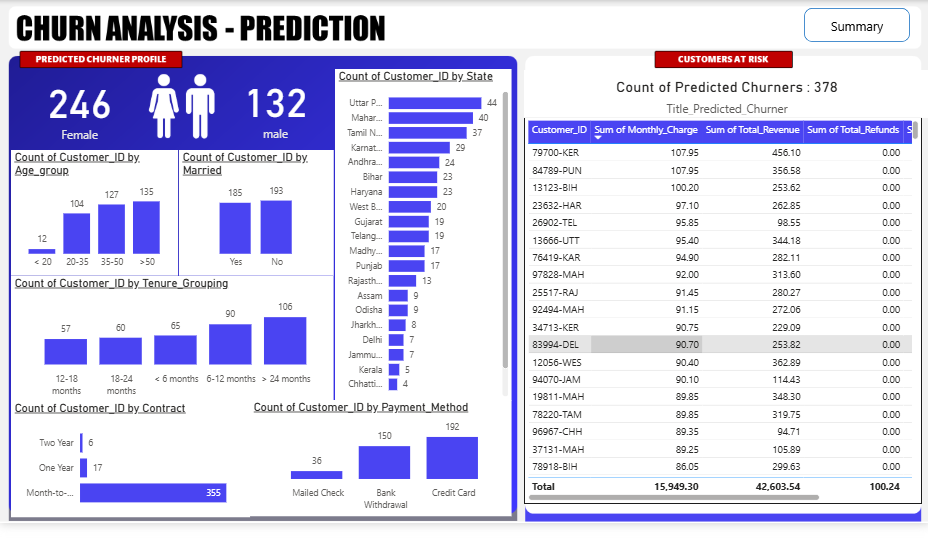

The page's visual inventory and layout, read from the dashboard file:
{"tool":"powerbi","page":{"name":"Churn_Prediction","canvas":[1280,720],"ordinal":2},"visuals":[{"type":"tableEx","fields":{"Values":["Prediction.Customer_ID","Sum(Prediction.Monthly_Charge)","Sum(Prediction.Total_Revenue)","Sum(Prediction.Total_Refunds)","Sum(Prediction.Number_of_Referrals)"]},"box":[721.2,161,547.8,532.6],"z":0},{"type":"card","fields":{"Values":["tab_measures.Title_Predicted_Churner"]},"box":[721.2,96.3,558.8,66.1],"z":1000},{"type":"card","fields":{"Values":["tab_measures.Count Predicted Churner"]},"box":[15.7,96.9,188.5,100.8],"z":2000},{"type":"card","fields":{"Values":["tab_measures.Count Predicted Churner"]},"box":[297.2,95.6,163.6,102.1],"z":3000},{"type":"clusteredColumnChart","fields":{"Category":["Age_Grouping.Age_group"],"Y":["CountNonNull(Prediction.Customer_ID)"]},"box":[15.7,206.8,230.4,172.8],"z":4000},{"type":"clusteredColumnChart","fields":{"Category":["Prediction.Married"],"Y":["CountNonNull(Prediction.Customer_ID)"]},"box":[246.1,206.8,213.4,172.8],"z":5000},{"type":"clusteredColumnChart","fields":{"Category":["Tenure_Grouping.Tenure_Grouping"],"Y":["CountNonNull(Prediction.Customer_ID)"]},"box":[15.7,379.6,443.8,172.8],"z":6000},{"type":"clusteredColumnChart","fields":{"Category":["Prediction.Payment_Method"],"Y":["CountNonNull(Prediction.Customer_ID)"]},"box":[344.3,551.1,360,159.7],"z":7000},{"type":"clusteredBarChart","fields":{"Category":["Prediction.Contract"],"Y":["CountNonNull(Prediction.Customer_ID)"]},"box":[15.7,552.4,328.6,159.7],"z":8000},{"type":"clusteredBarChart","fields":{"Category":["Prediction.State"],"Y":["CountNonNull(Prediction.Customer_ID)"]},"box":[460.8,95.6,243.5,455.6],"z":9000},{"type":"image","box":[189.2,83.8,123.1,123.1],"z":10000},{"type":"shape","box":[1106.6,11,145.9,46.8],"z":11000}]}

Visuals, with their boxes on the page's 1280x720 design canvas (x1, y1, x2, y2). These are canvas units, not pixel positions in the 928x546 screenshot, which may show the page scaled, cropped or inside an application window:
tableEx - Prediction.Customer_ID x Sum(Prediction.Monthly_Charge): x1=721, y1=161, x2=1269, y2=694
card - tab_measures.Title_Predicted_Churner: x1=721, y1=96, x2=1280, y2=162
card - tab_measures.Count Predicted Churner: x1=16, y1=97, x2=204, y2=198
card - tab_measures.Count Predicted Churner: x1=297, y1=96, x2=461, y2=198
clusteredColumnChart - Age_Grouping.Age_group x CountNonNull(Prediction.Customer_ID): x1=16, y1=207, x2=246, y2=380
clusteredColumnChart - Prediction.Married x CountNonNull(Prediction.Customer_ID): x1=246, y1=207, x2=460, y2=380
clusteredColumnChart - Tenure_Grouping.Tenure_Grouping x CountNonNull(Prediction.Customer_ID): x1=16, y1=380, x2=460, y2=552
clusteredColumnChart - Prediction.Payment_Method x CountNonNull(Prediction.Customer_ID): x1=344, y1=551, x2=704, y2=711
clusteredBarChart - Prediction.Contract x CountNonNull(Prediction.Customer_ID): x1=16, y1=552, x2=344, y2=712
clusteredBarChart - Prediction.State x CountNonNull(Prediction.Customer_ID): x1=461, y1=96, x2=704, y2=551
image: x1=189, y1=84, x2=312, y2=207
shape: x1=1107, y1=11, x2=1252, y2=58
